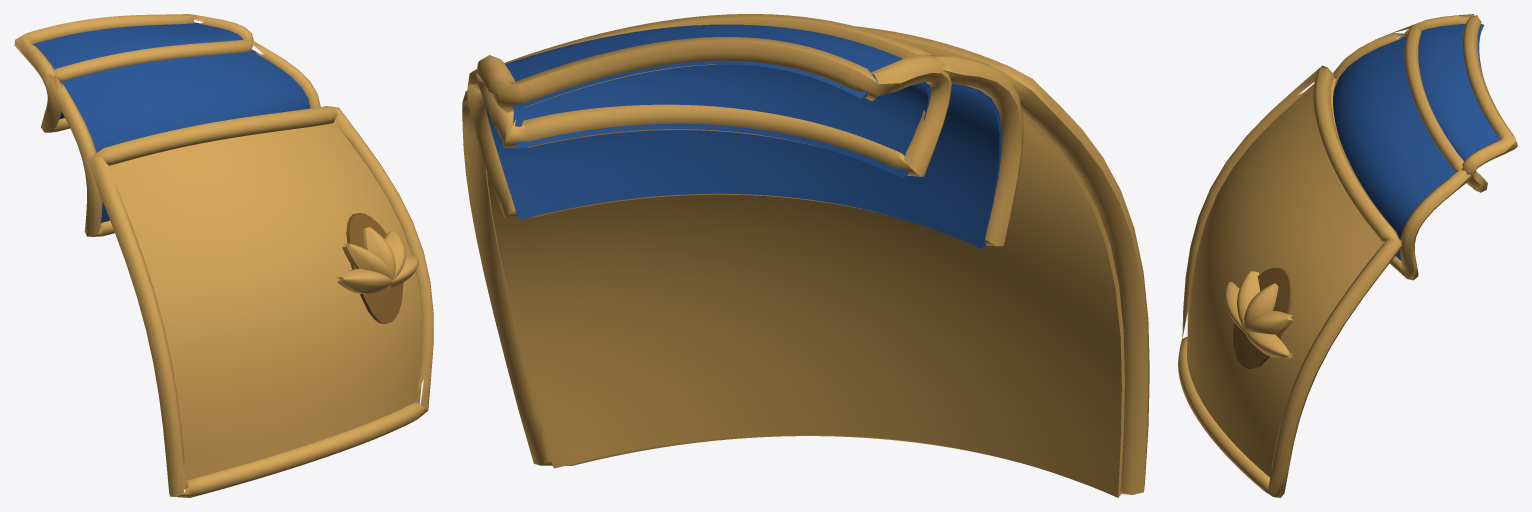
File: shoulder-armour-near.glb
3 renders of one model, left to right at view 1: azimuth 30°, elevation 25°; view 2: azimuth 150°, elevation 25°; view 3: azimuth 270°, elevation 25°, orthographic. The views are drawn at different scales.
Visible parts, largest first — view 1: OriginalLeftShoulderArmour; view 2: OriginalLeftShoulderArmour; view 3: OriginalLeftShoulderArmour.
Part boxes in pixels (x1,y1,x2,y2): OriginalLeftShoulderArmour: [14, 14, 433, 497]; OriginalLeftShoulderArmour: [462, 14, 1149, 497]; OriginalLeftShoulderArmour: [1178, 14, 1517, 497].
Size of the model in its own units: 0.1065 by 0.1162 by 0.1019.
